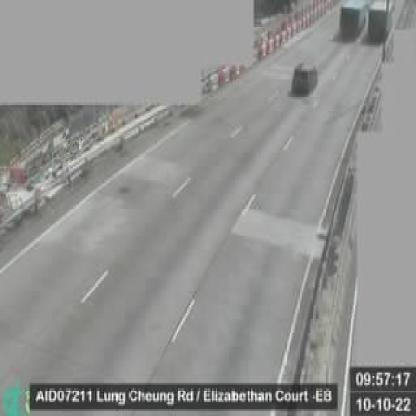Car: (291, 62, 320, 93)
Truck: (367, 1, 394, 43), (339, 0, 368, 38)
